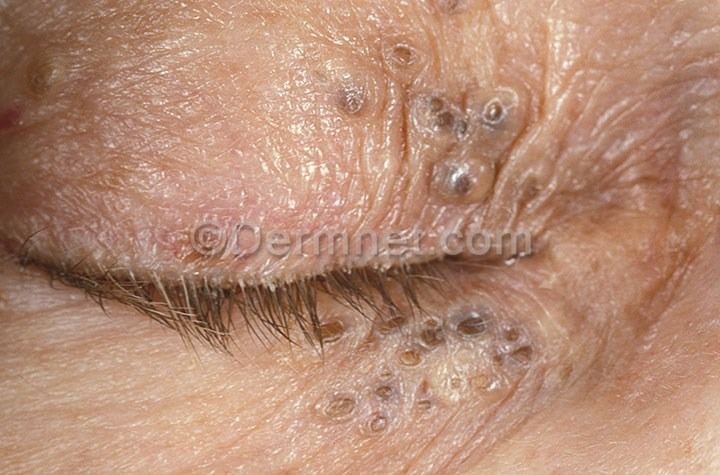Melasma: (258, 296, 566, 475), (289, 15, 577, 206), (598, 143, 717, 367), (0, 5, 109, 227)
